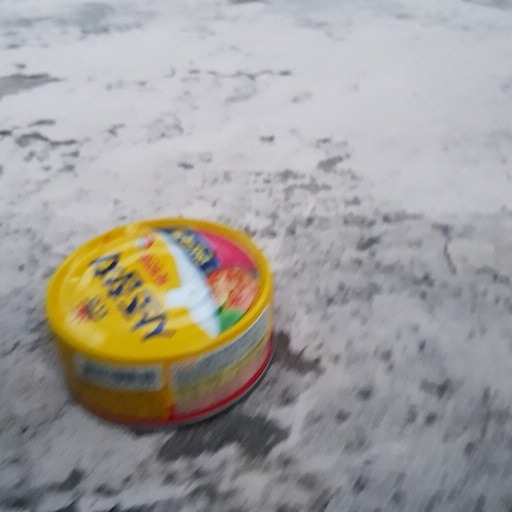Metal_1: (46, 217, 277, 427)
